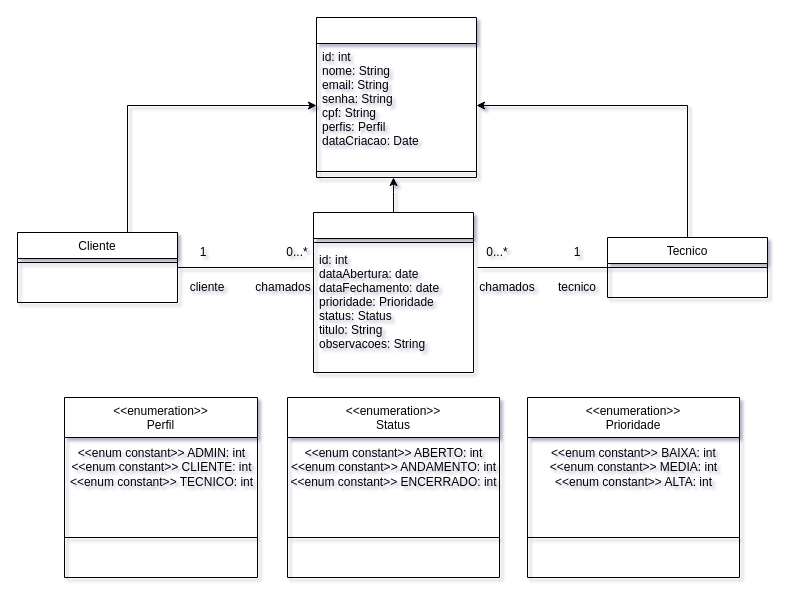
This 791x601 diagram has some shape labels left out. Here are the shapes that lost their labels. From the top down, the box of each, then its label:
(316, 16, 476, 178): Pessoa
(312, 212, 474, 372): Chamado
